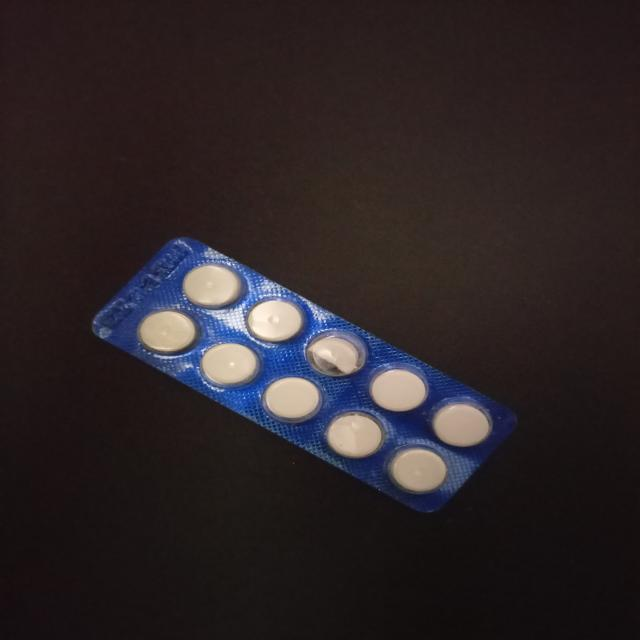defect: (304, 330, 371, 379)
